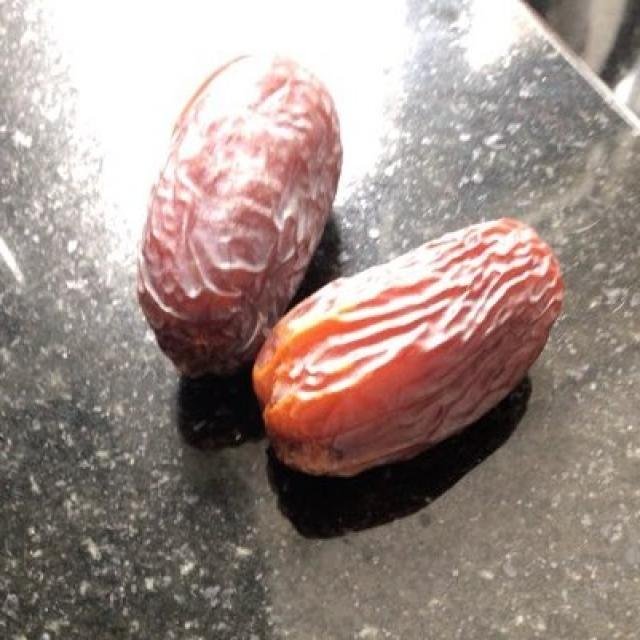dates: (134, 50, 588, 475)
